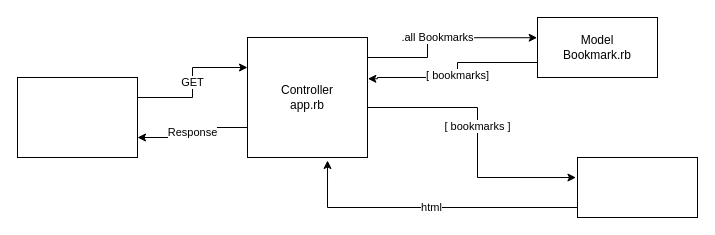
Image size: 715x235. Some labels were removed from this diagram. Here are the shapes that lost their labels. From the top down, the box of each, then its label:
(16, 76, 138, 158): Browser
(576, 156, 698, 218): View index.erb
